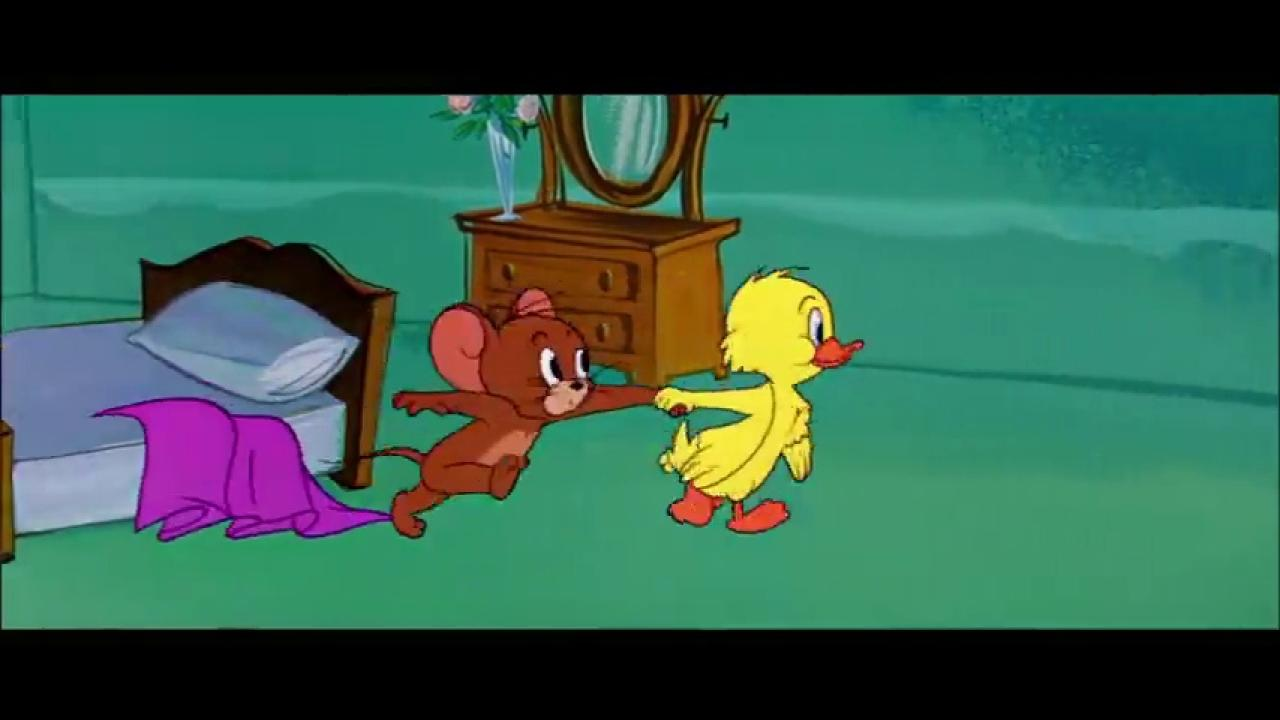Jerry: (320, 286, 688, 542)
